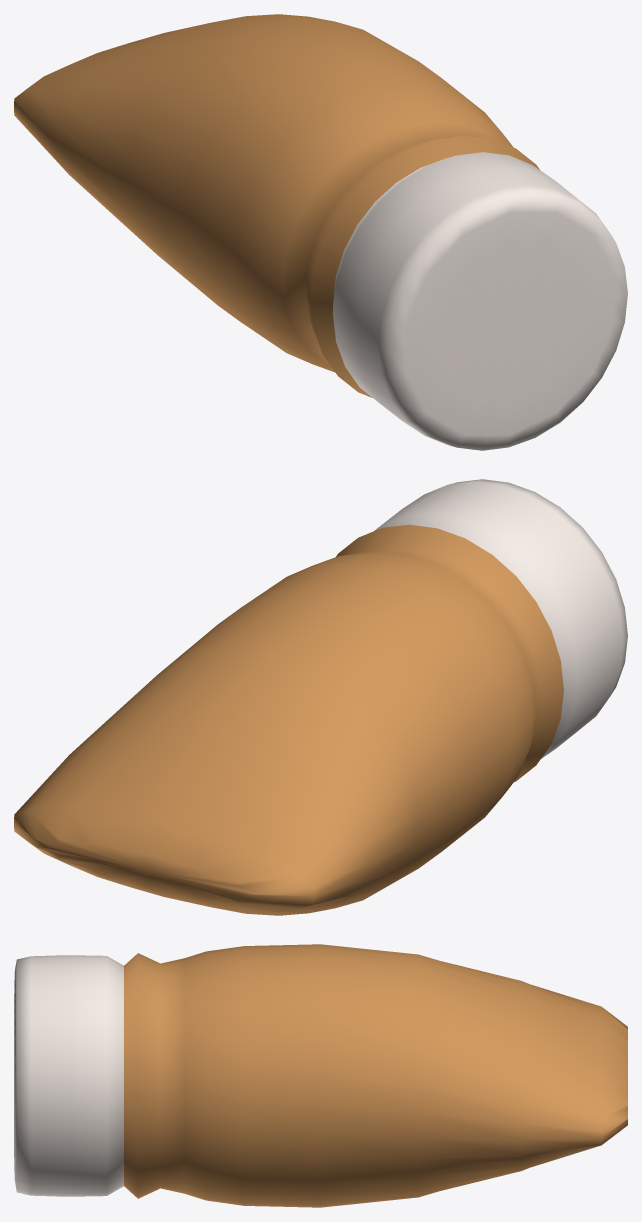
Rendered from pasta_dental.glb.
3 renders of one model, top to bottom at view 1: azimuth 30°, elevation 25°; view 2: azimuth 150°, elevation 25°; view 3: azimuth 270°, elevation 25°, orthographic. The views are drawn at different scales.
Parts seen in each view (by area): view 1: pCylinder1; view 2: pCylinder1; view 3: pCylinder1.
Part boxes in pixels (x1,y1,x2,y2): pCylinder1: (14,14,627,450); pCylinder1: (14,479,627,915); pCylinder1: (14,944,627,1207).
Size of the model in its own units: 0.0682 by 0.0576 by 0.1361.
